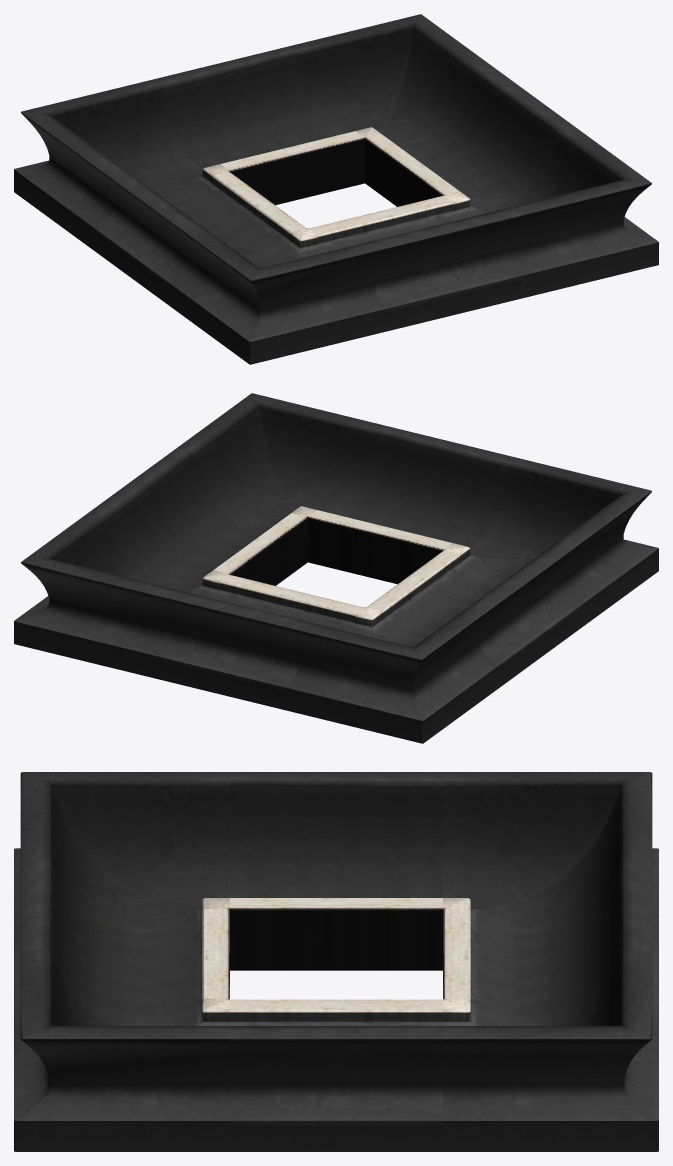
Rendered from website2-black.FBX.
3 views of the same model, one above another, from view 1: azimuth 30°, elevation 25°; view 2: azimuth 150°, elevation 25°; view 3: azimuth 270°, elevation 25° (orthographic). The views are drawn at different scales.
Parts seen in each view (by area): view 1: website2black_Corner_Bottom_L, website2black_Top, website2black_Corner_Bottom_R, website2black_Corner_Top_L, website2black_Corner_Top_R, website2black_Bottom, website2black_R, website2black_L; view 2: website2black_Corner_Top_L, website2black_Bottom, website2black_Corner_Top_R, website2black_Corner_Bottom_L, website2black_Corner_Bottom_R, website2black_Top, website2black_R, website2black_L; view 3: website2black_L, website2black_Corner_Bottom_R, website2black_Corner_Top_R, website2black_R, website2black_Corner_Top_L, website2black_Corner_Bottom_L, website2black_Top, website2black_Bottom.
Part boxes in pixels (<box>): website2black_Corner_Bottom_L: <box>170,220,386,364</box>; website2black_Top: <box>154,46,364,205</box>; website2black_Corner_Bottom_R: <box>443,127,658,298</box>; website2black_Corner_Top_L: <box>14,79,229,249</box>; website2black_Corner_Top_R: <box>289,14,496,144</box>; website2black_Bottom: <box>309,195,522,331</box>; website2black_R: <box>365,70,575,206</box>; website2black_L: <box>92,163,306,306</box>; website2black_Corner_Top_L: <box>286,599,502,743</box>; website2black_Bottom: <box>308,425,518,584</box>; website2black_Corner_Top_R: <box>14,506,229,677</box>; website2black_Corner_Bottom_L: <box>443,458,658,628</box>; website2black_Corner_Bottom_R: <box>176,393,383,523</box>; website2black_Top: <box>150,574,363,710</box>; website2black_R: <box>97,449,307,585</box>; website2black_L: <box>366,542,580,685</box>; website2black_L: <box>230,772,442,970</box>; website2black_Corner_Bottom_R: <box>14,949,229,1151</box>; website2black_Corner_Top_R: <box>443,949,658,1151</box>; website2black_R: <box>230,999,442,1151</box>; website2black_Corner_Top_L: <box>443,772,658,939</box>; website2black_Corner_Bottom_L: <box>14,772,229,939</box>; website2black_Top: <box>443,859,658,1029</box>; website2black_Bottom: <box>14,859,229,1029</box>.
Size of the model in its own units: 394 by 394 by 75.02.
2 materials, 2 textured.
